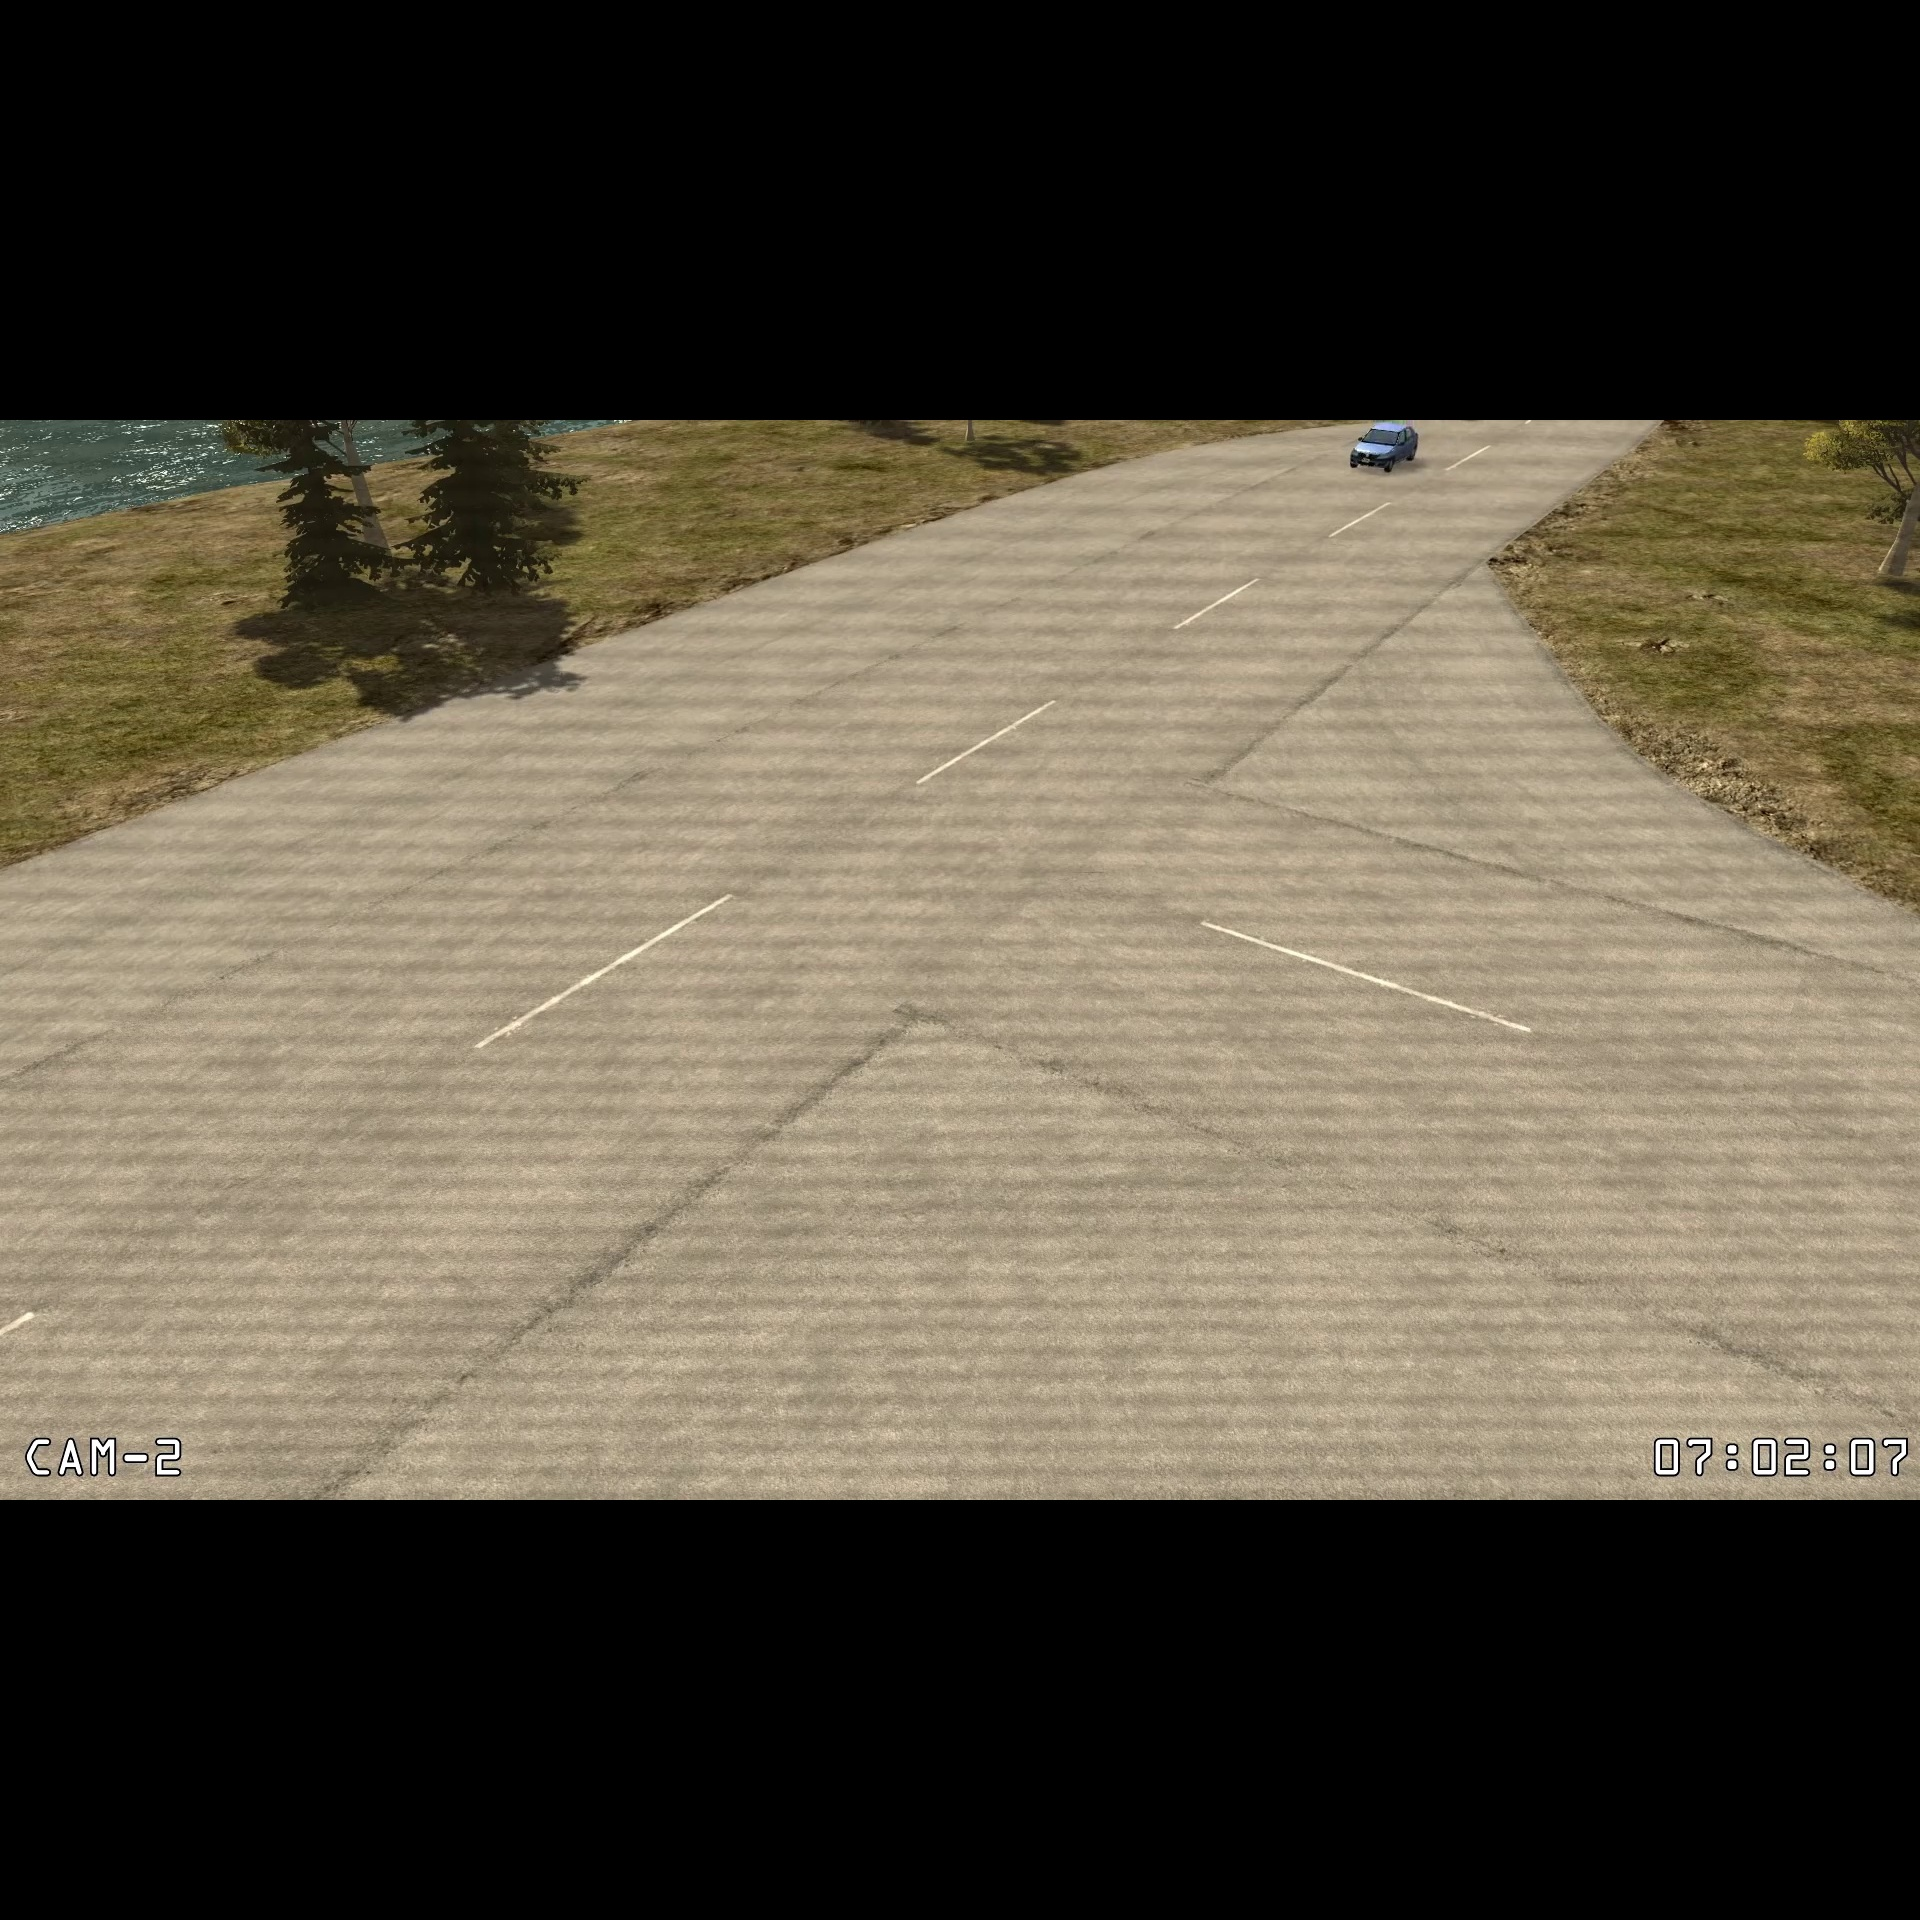vehicle: (1343, 420, 1428, 476)
